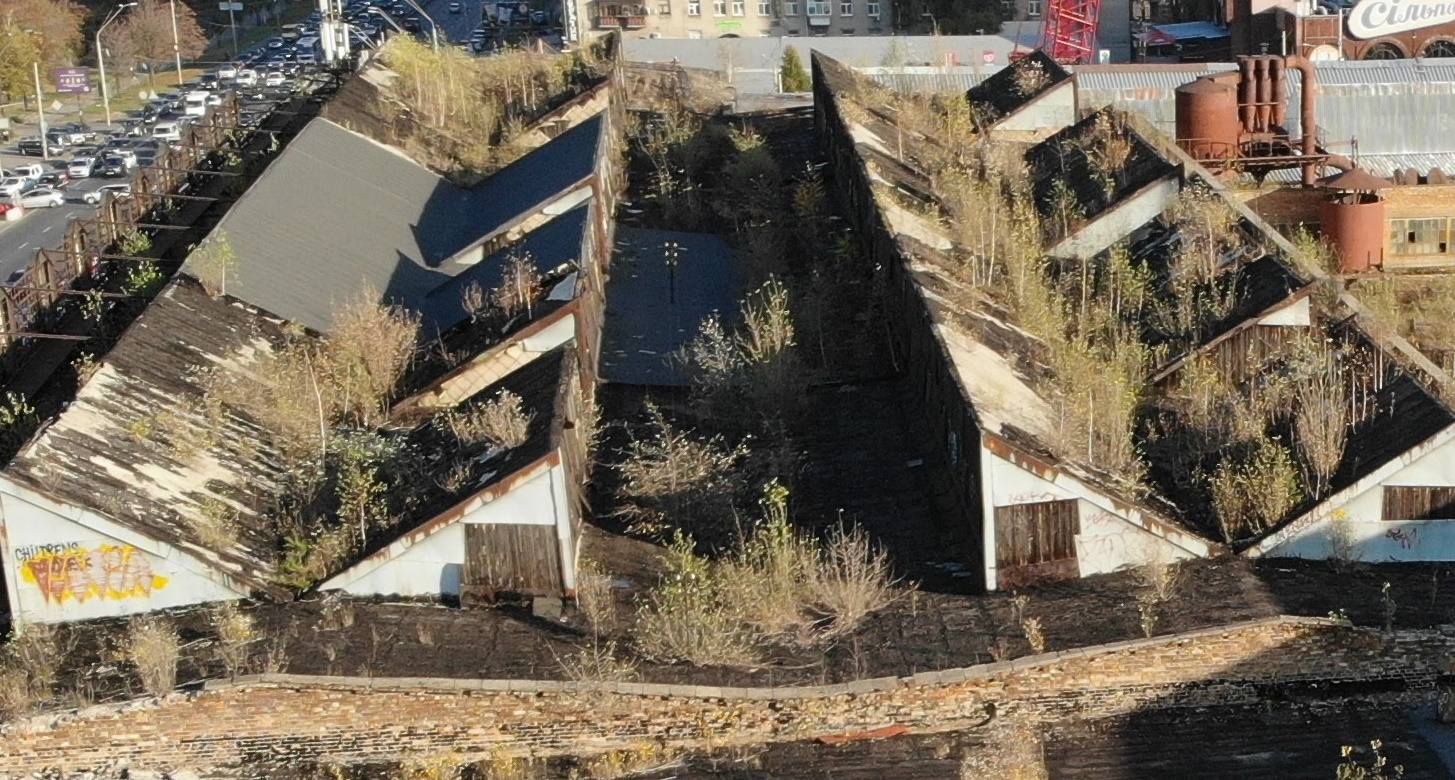tree: (605, 409, 744, 537), (539, 548, 649, 700), (639, 517, 737, 681), (737, 489, 821, 652), (734, 277, 824, 428), (805, 508, 912, 629), (1165, 357, 1273, 476), (265, 339, 358, 477), (1066, 229, 1162, 361), (1282, 347, 1360, 501), (338, 297, 433, 423), (156, 388, 256, 496), (1200, 442, 1301, 547), (1155, 196, 1247, 310), (1054, 359, 1137, 475), (995, 197, 1062, 337), (403, 33, 478, 138), (688, 313, 754, 424), (19, 603, 83, 711), (491, 47, 571, 133), (639, 122, 705, 226), (121, 610, 192, 706), (927, 183, 995, 272), (466, 387, 543, 459), (487, 259, 551, 345), (723, 124, 790, 205), (186, 235, 246, 318), (1081, 118, 1144, 197), (787, 180, 839, 274), (924, 87, 987, 158), (775, 43, 820, 101)
